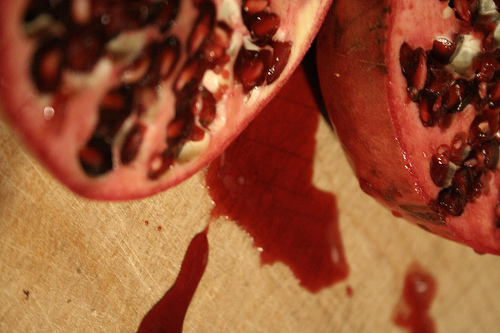pomogranate: (1, 0, 334, 204), (314, 0, 499, 258)
